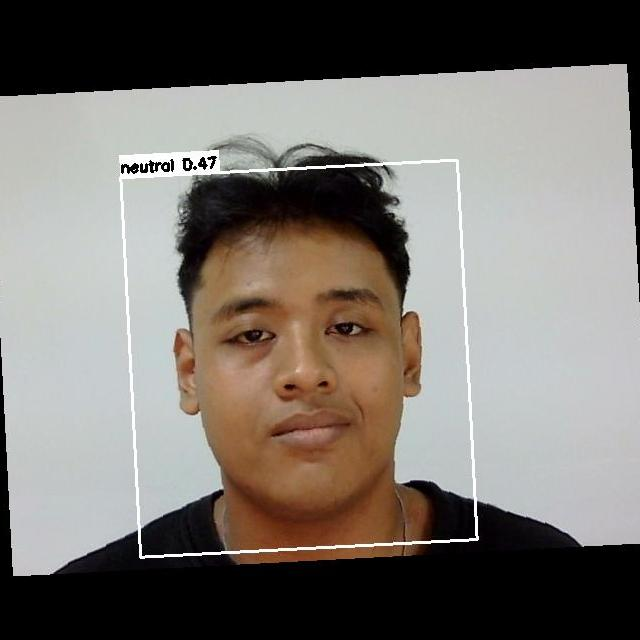Happy: (199, 284, 415, 468)
